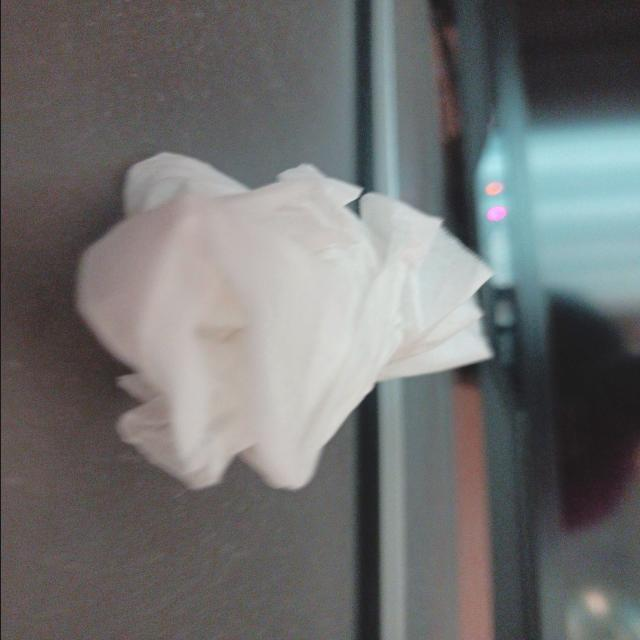Paper: (86, 154, 539, 423)
